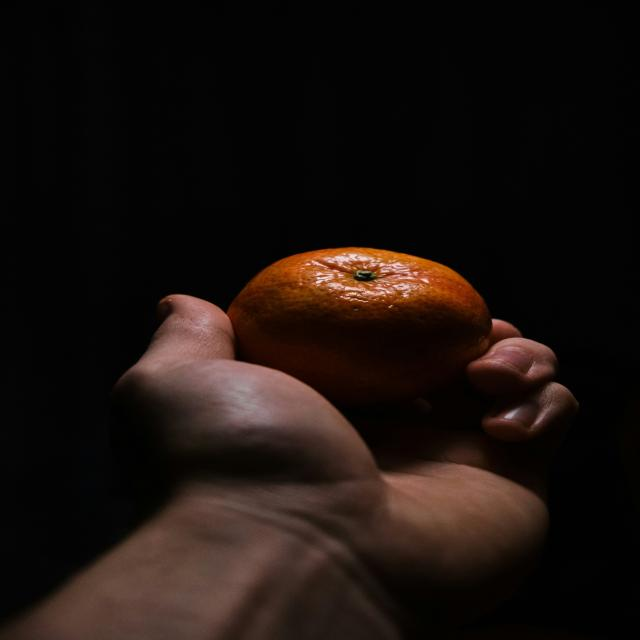tangerine: (225, 248, 498, 420)
